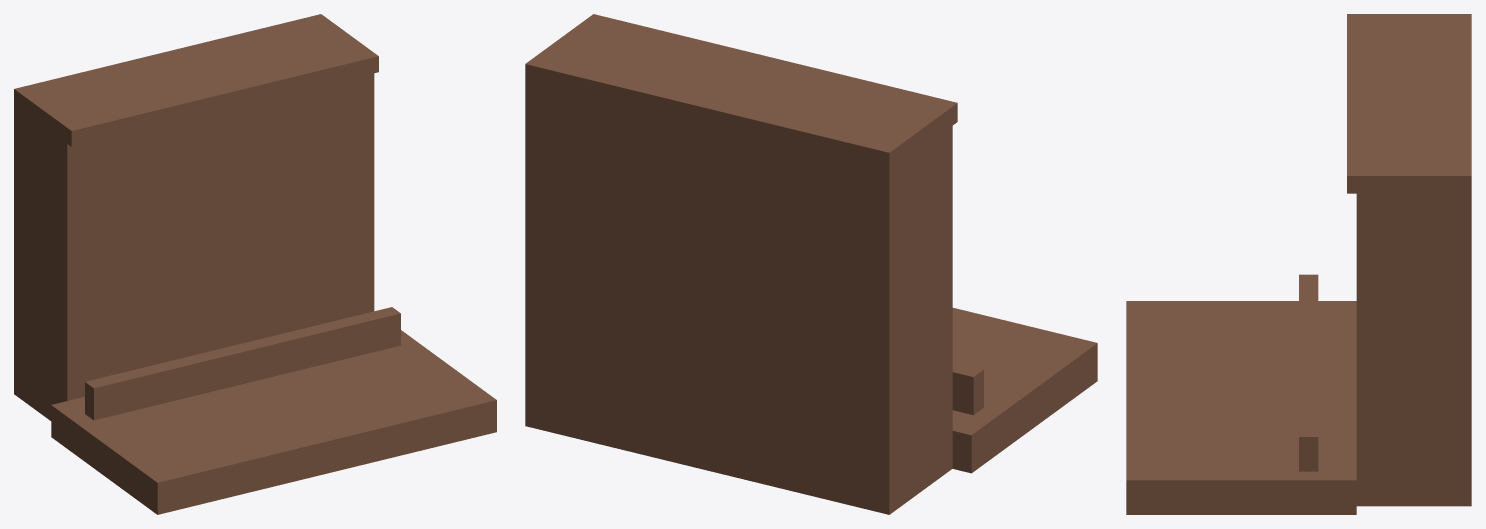
Rendered from Pointed Arch Wall.fbx.
3 views of the same model, side by side, from view 1: azimuth 30°, elevation 25°; view 2: azimuth 150°, elevation 25°; view 3: azimuth 270°, elevation 25° (orthographic). The views are drawn at different scales.
Visible parts, largest first — view 1: Back Wall.001, base.mid.002, fence.001; view 2: Back Wall.001, base.mid.002, fence.001; view 3: Back Wall.001, base.mid.002, fence.001.
Boxes of the visible parts, box(x1,y1,x2,y2) form: Back Wall.001: box(14, 14, 378, 420); base.mid.002: box(51, 330, 496, 514); fence.001: box(85, 307, 400, 420); Back Wall.001: box(525, 14, 957, 514); base.mid.002: box(952, 307, 1097, 473); fence.001: box(952, 362, 983, 415); Back Wall.001: box(1347, 14, 1471, 506); base.mid.002: box(1126, 301, 1356, 514); fence.001: box(1299, 274, 1318, 471).
Size of the model in its own units: 11.05 by 9.5 by 9.
